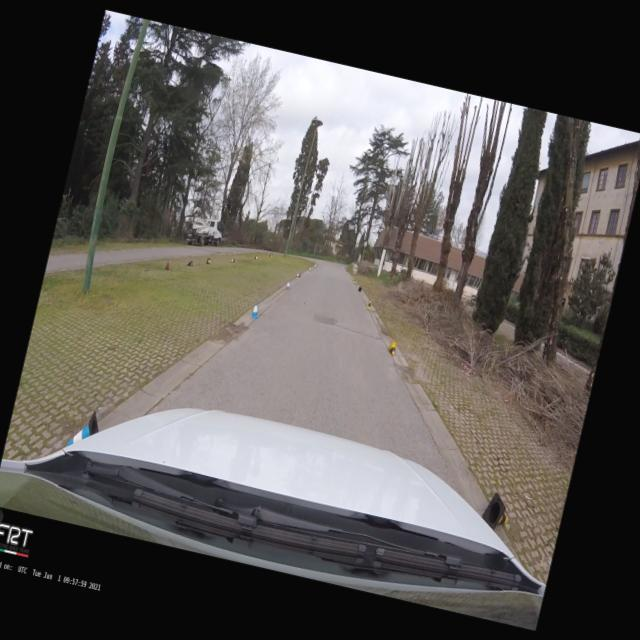blue_cone: (66, 406, 103, 452), (250, 302, 262, 320), (284, 278, 292, 290), (296, 272, 300, 277), (308, 266, 311, 272), (314, 264, 316, 268)
unknown_cone: (163, 258, 172, 271), (186, 258, 193, 266), (206, 258, 212, 264), (230, 257, 235, 262), (254, 254, 258, 260), (358, 286, 362, 291), (269, 254, 272, 256)
yellow_cone: (479, 490, 513, 532), (387, 341, 398, 356), (365, 298, 372, 310), (353, 277, 355, 282), (350, 273, 352, 277)
